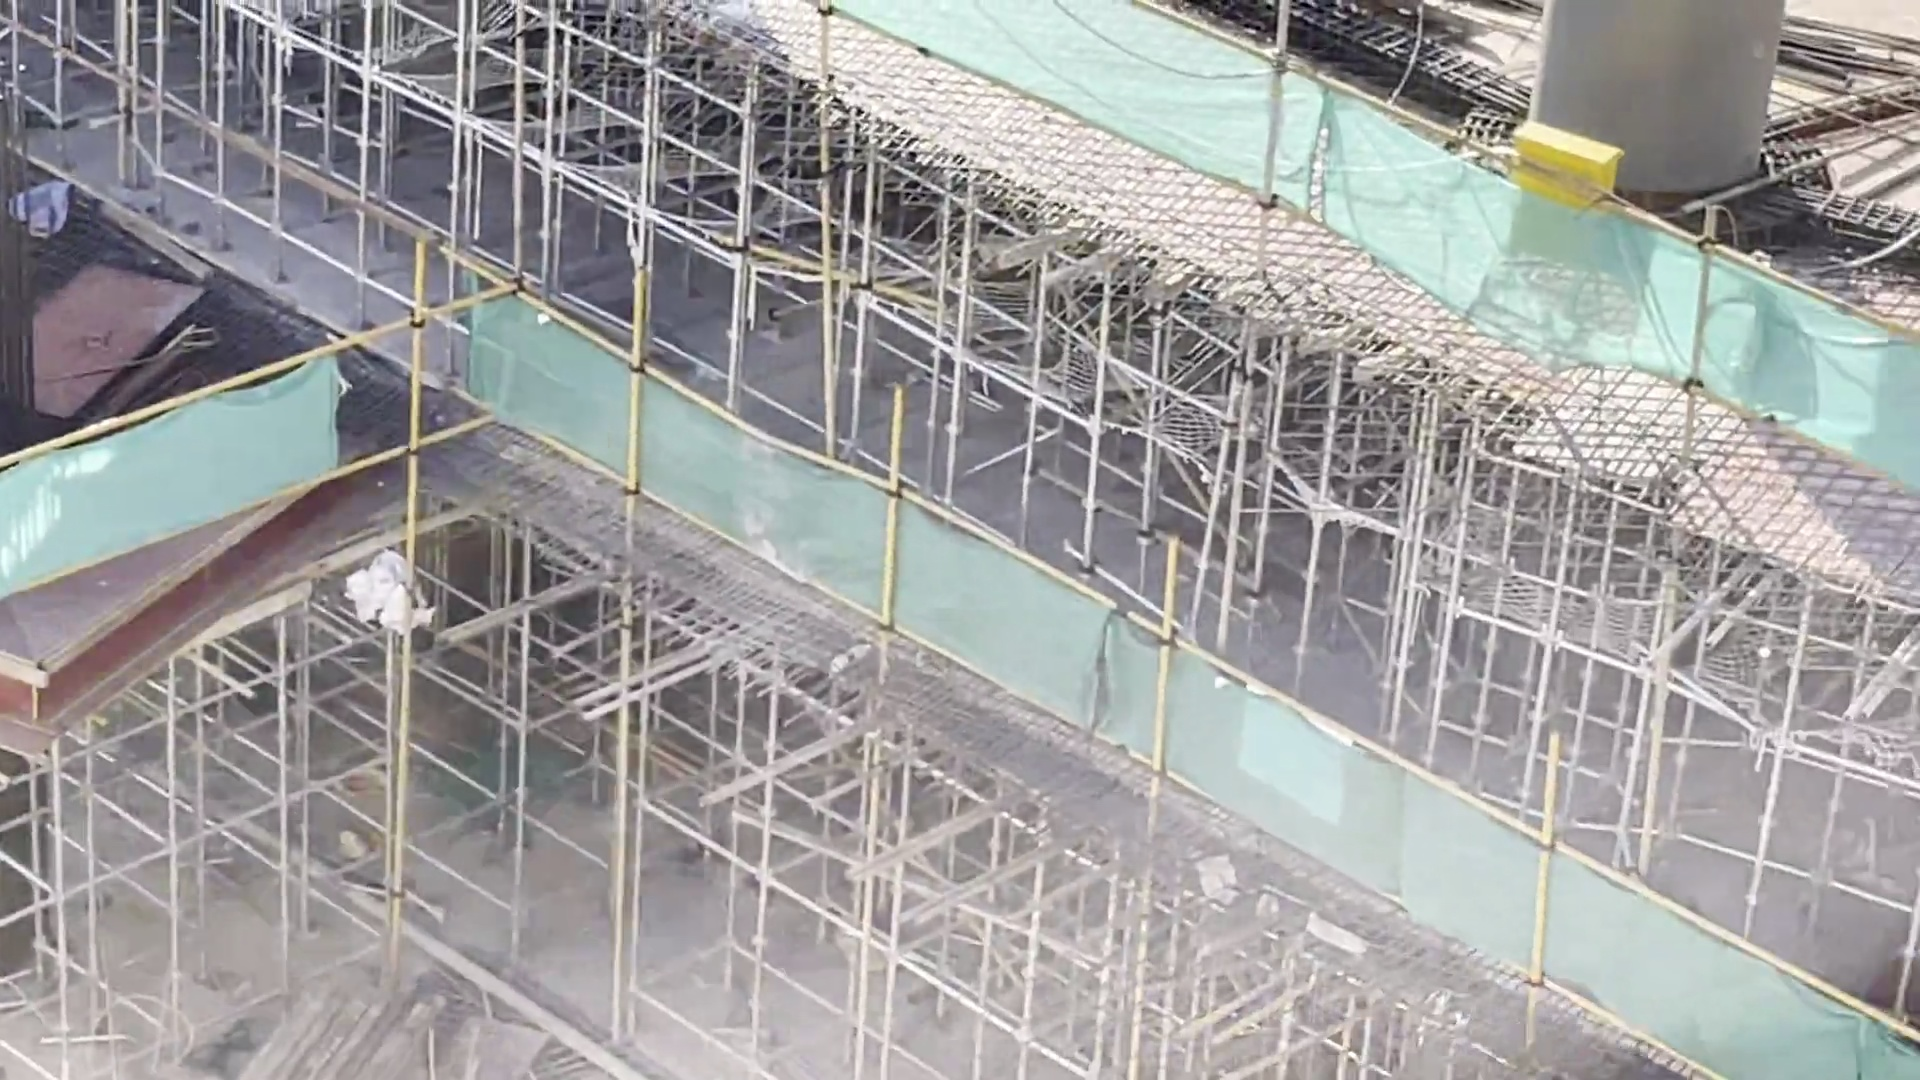ebox: (1495, 111, 1634, 280)
